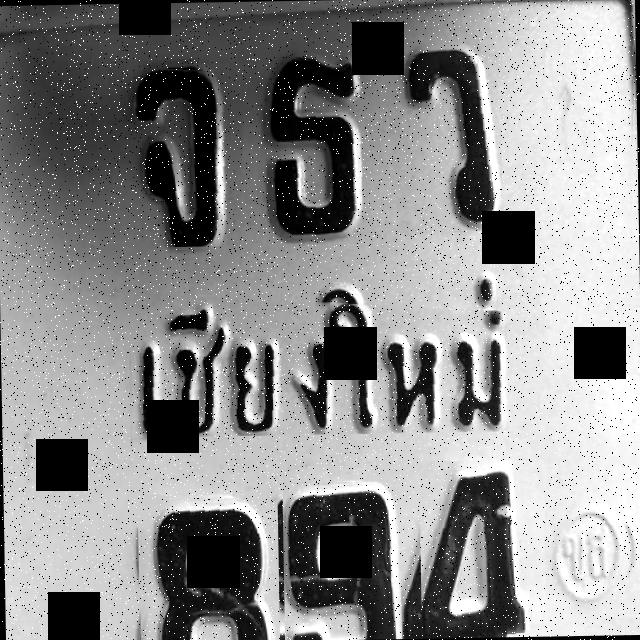letters: (248, 57, 376, 239), (418, 459, 546, 638), (130, 64, 247, 248), (136, 491, 280, 640), (384, 55, 503, 233), (281, 479, 402, 640)
license-plate: (0, 0, 634, 640)
province: (129, 285, 546, 437)
